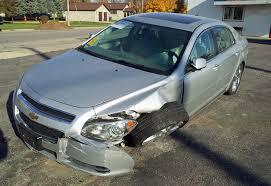fender-dent: (107, 79, 183, 122)
front-bumper-dent: (44, 128, 118, 172)
